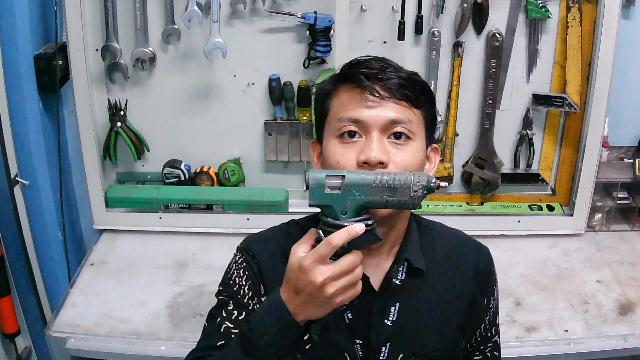gun_lem: (298, 165, 453, 270)
